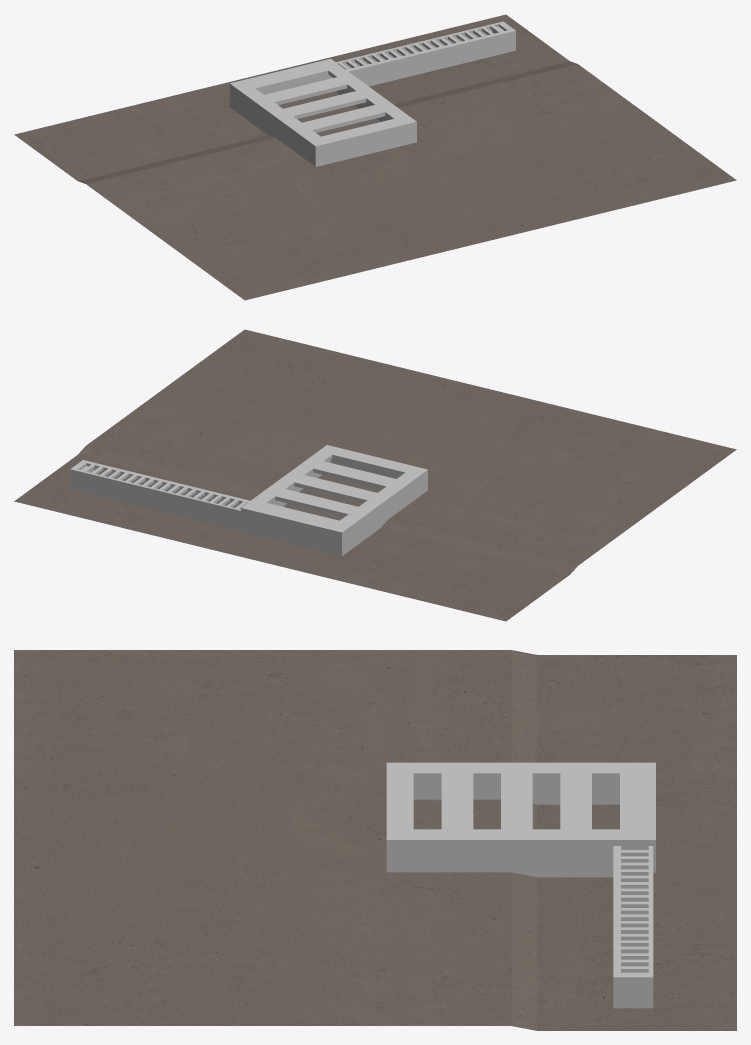
The model's file is map1.fbx.
The picture shows the model from 3 angles, top to bottom: view 1: azimuth 30°, elevation 25°; view 2: azimuth 150°, elevation 25°; view 3: azimuth 270°, elevation 25°; orthographic projection. The views are drawn at different scales.
Parts seen in each view (by area): view 1: Plane, Cube.004, Cube.003, Cube.001, Cube.002; view 2: Plane, Cube.004, Cube.003, Cube.001, Cube.002; view 3: Plane, Cube.004, Cube.003, Cube.002, Cube.001.
Part boxes in pixels (bbox=[...]): Plane: bbox=[14, 14, 736, 300]; Cube.004: bbox=[229, 58, 416, 149]; Cube.003: bbox=[229, 75, 416, 166]; Cube.001: bbox=[327, 26, 515, 93]; Cube.002: bbox=[336, 21, 515, 73]; Plane: bbox=[14, 329, 736, 621]; Cube.004: bbox=[241, 445, 427, 536]; Cube.003: bbox=[247, 458, 427, 556]; Cube.001: bbox=[70, 466, 246, 531]; Cube.002: bbox=[70, 460, 250, 514]; Plane: bbox=[14, 650, 736, 1030]; Cube.004: bbox=[386, 762, 655, 845]; Cube.003: bbox=[386, 779, 655, 877]; Cube.002: bbox=[613, 846, 653, 981]; Cube.001: bbox=[613, 981, 653, 1008].
Bounding box in the file's own units: 38317 × 1867 × 31132.
